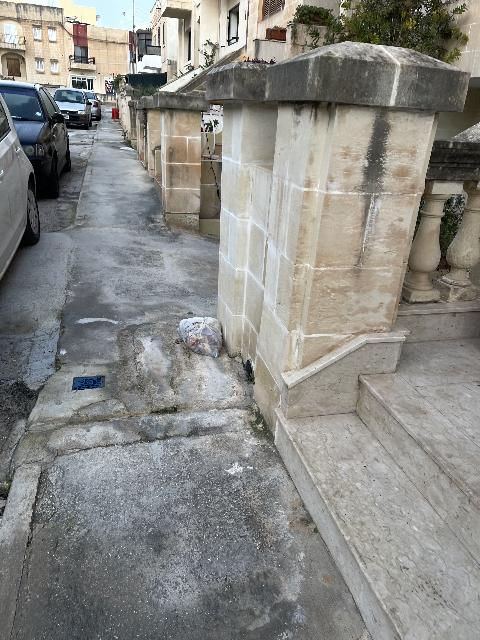Organic -White-: (178, 316, 222, 358)
